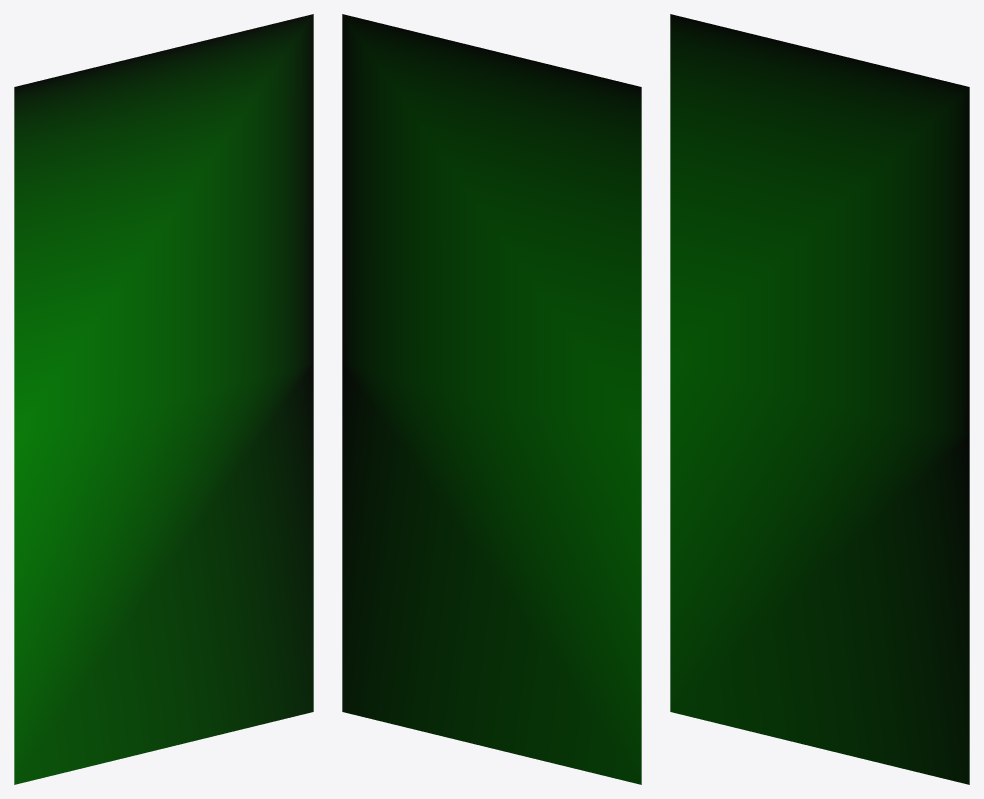
Rendered from DBK_WinSmall_Plywood_B.fbx.
3 views of the same model, side by side, from view 1: azimuth 30°, elevation 25°; view 2: azimuth 150°, elevation 25°; view 3: azimuth 330°, elevation 25° (orthographic).
Parts seen in each view (by area): view 1: DBK_WinSmall_Plywood_B; view 2: DBK_WinSmall_Plywood_B; view 3: DBK_WinSmall_Plywood_B.
Part boxes in pixels (x1,y1,x2,y2): DBK_WinSmall_Plywood_B: (14,14,313,784); DBK_WinSmall_Plywood_B: (342,14,641,784); DBK_WinSmall_Plywood_B: (670,14,969,784).
Bounding box in the file's own units: 48.91 × 109 × 2.96e-05.
